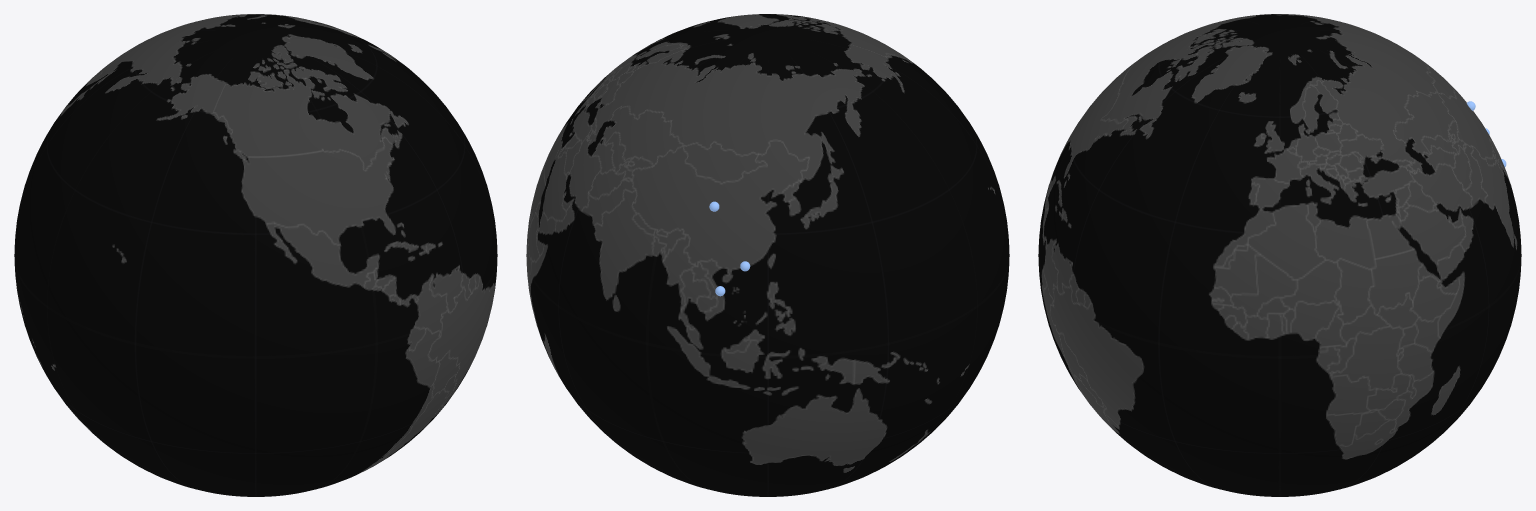
Rendered from militarymap.glb.
3 views of the same model, side by side, from view 1: azimuth 30°, elevation 25°; view 2: azimuth 150°, elevation 25°; view 3: azimuth 270°, elevation 25° (orthographic).
Visible parts, largest first — view 1: Globe; view 2: Globe; view 3: Globe.
Boxes of the visible parts, x1,y1,x2,y2 form: Globe: [14, 14, 497, 496]; Globe: [526, 14, 1009, 496]; Globe: [1038, 14, 1521, 496].
Bounding box in the file's own units: 2 × 2 × 2.
2 materials, 1 textured.
